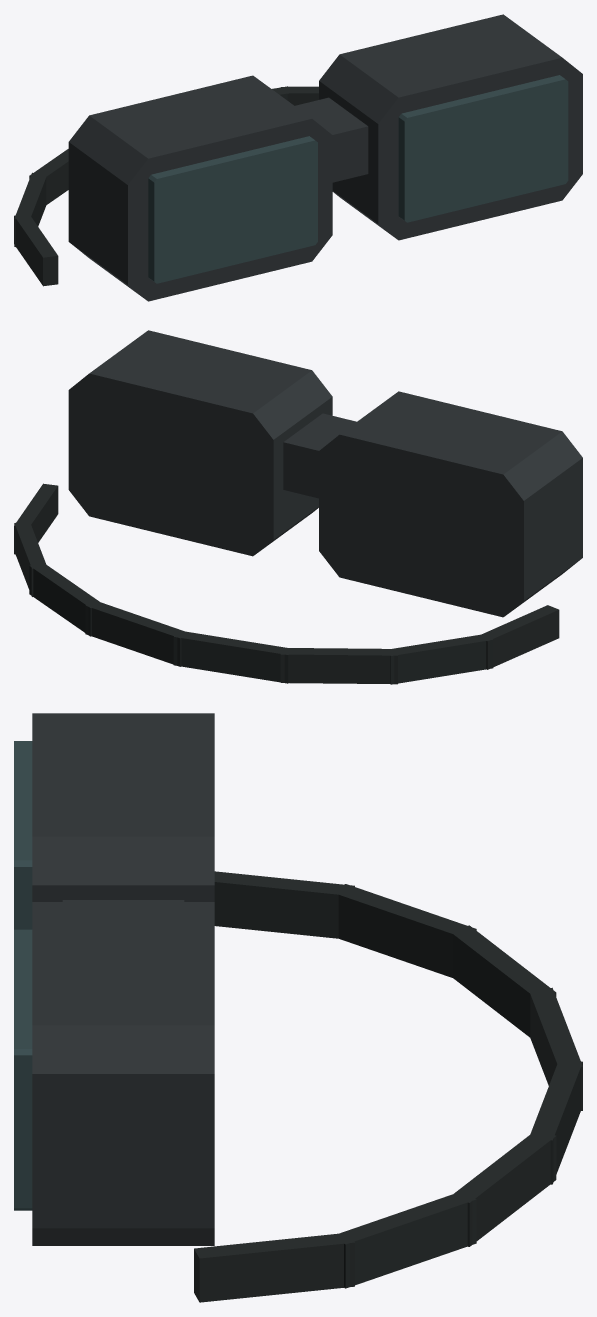
Rendered from TacticalGoggles.gltf.
3 renders of one model, top to bottom at view 1: azimuth 30°, elevation 25°; view 2: azimuth 150°, elevation 25°; view 3: azimuth 270°, elevation 25°, orthographic. The views are drawn at different scales.
Parts seen in each view (by area): view 1: TacticalGoggles; view 2: TacticalGoggles; view 3: TacticalGoggles.
Part boxes in pixels (x1,y1,x2,y2): TacticalGoggles: [14, 14, 582, 301]; TacticalGoggles: [14, 330, 582, 684]; TacticalGoggles: [14, 713, 582, 1302].
Bounding box in the file's own units: 0.2268 × 0.065 × 0.1403.
